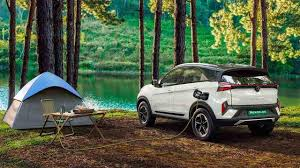Tata Nexon: (135, 62, 281, 145)
